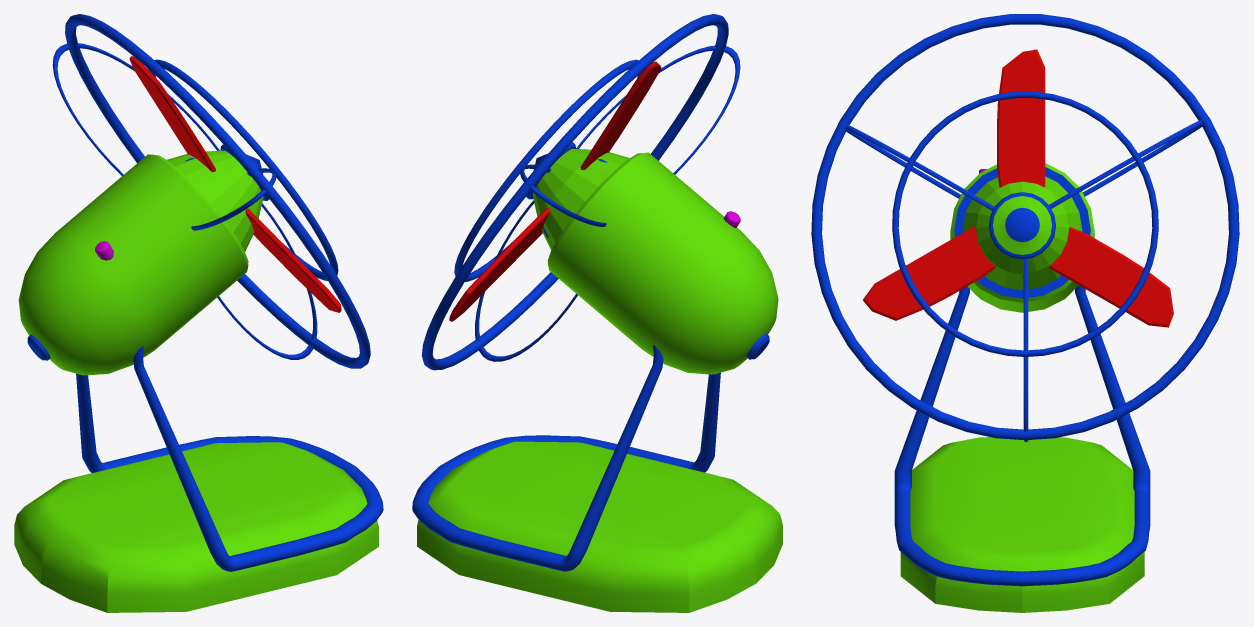
The model's file is SM_Ventilateur.fbx.
3 renders of one model, left to right at view 1: azimuth 30°, elevation 25°; view 2: azimuth 150°, elevation 25°; view 3: azimuth 270°, elevation 25°, orthographic. The views are drawn at different scales.
Parts seen in each view (by area): view 1: polySurface5; view 2: polySurface5; view 3: polySurface5.
Part boxes in pixels (bbox=[...]): polySurface5: bbox=[14, 14, 383, 612]; polySurface5: bbox=[412, 14, 782, 612]; polySurface5: bbox=[811, 14, 1239, 612].
Bounding box in the file's own units: 5.06 × 7.72 × 6.07.
